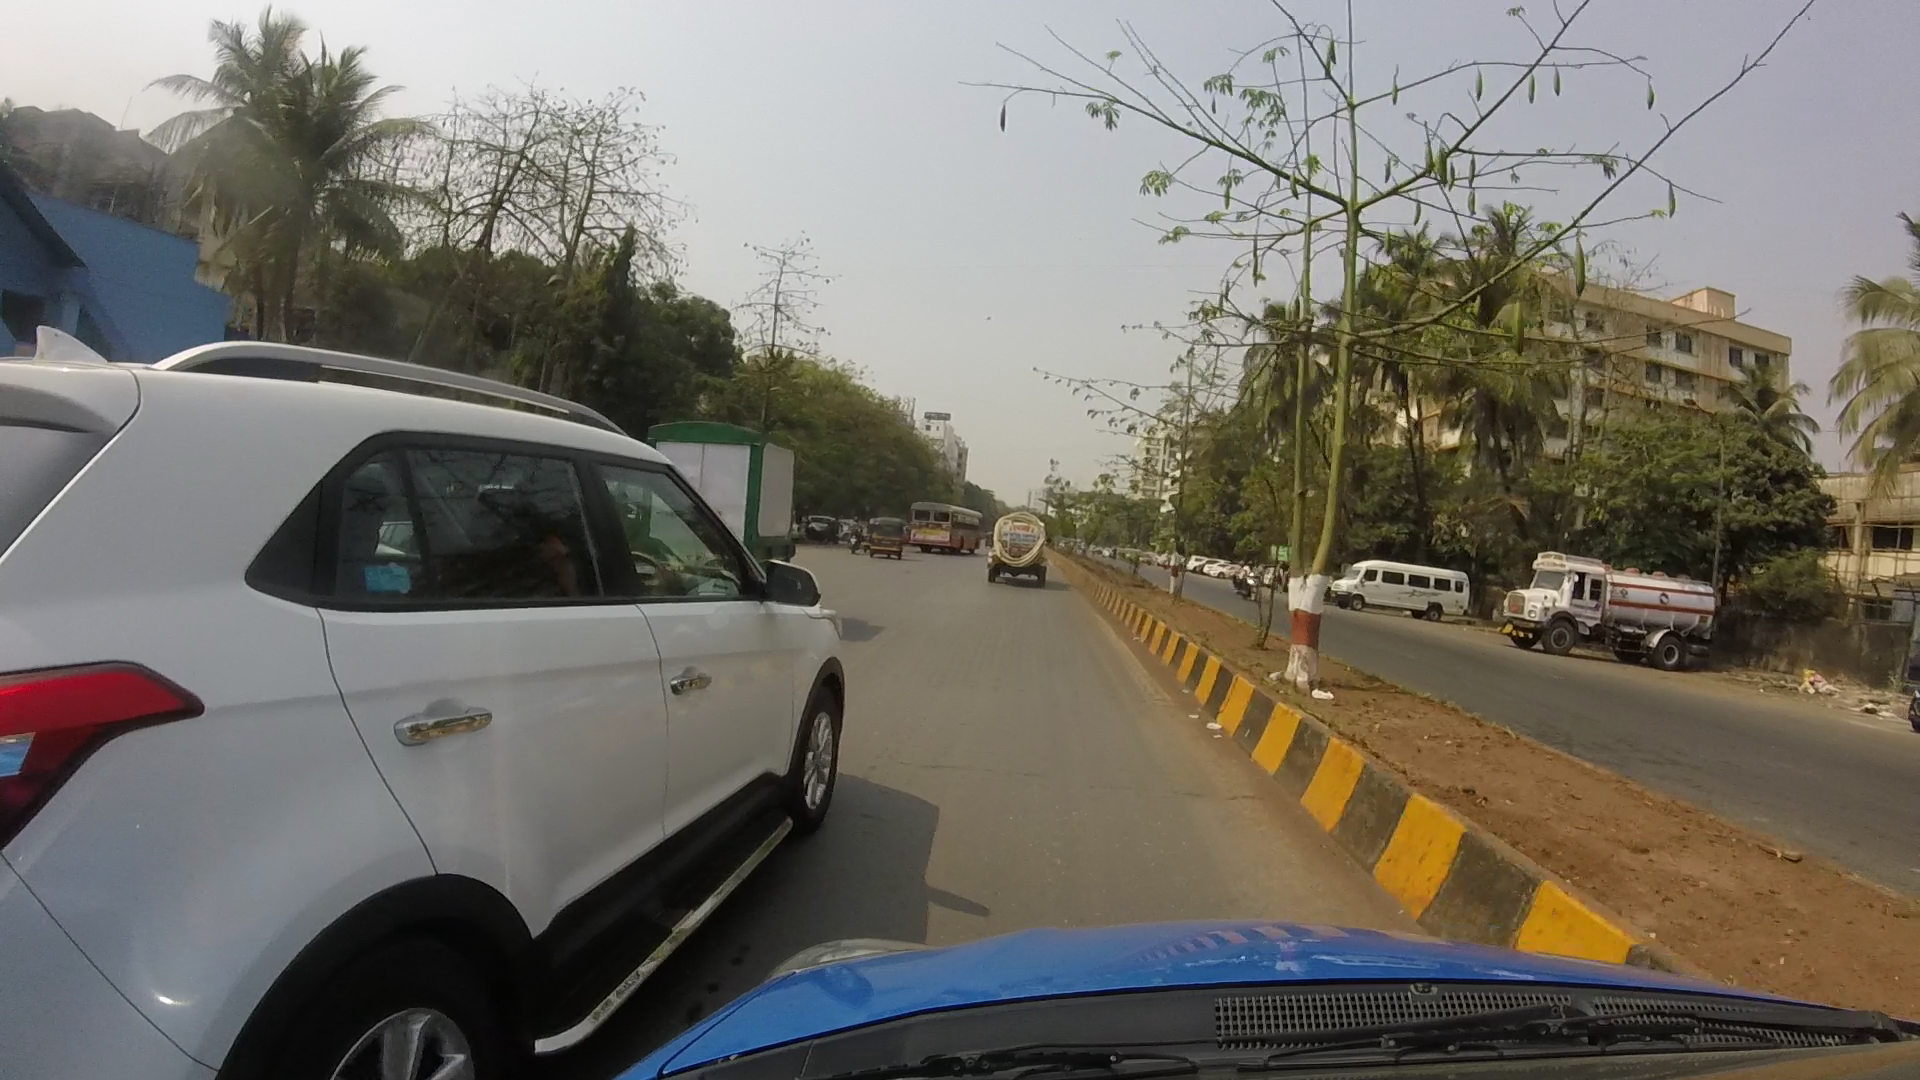bus: (1333, 545, 1480, 626), (913, 495, 976, 570)
car: (7, 351, 849, 1080)
truck: (626, 396, 822, 570), (1507, 550, 1722, 667), (978, 508, 1065, 597)
